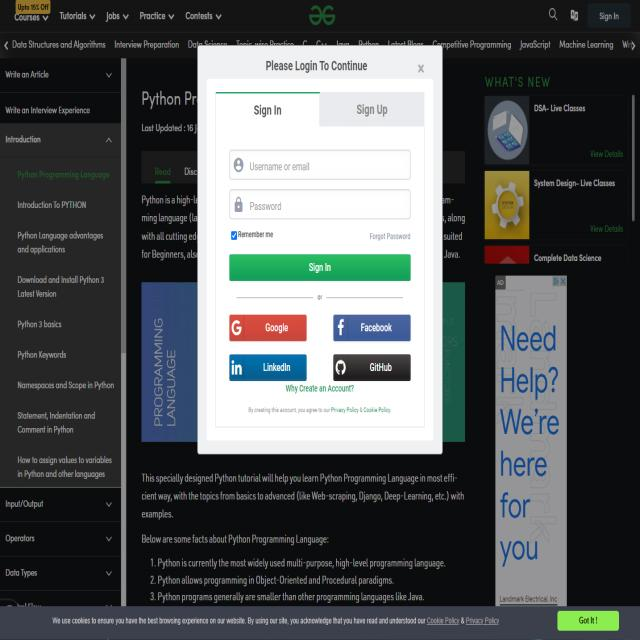sneaking: (201, 48, 436, 450)
